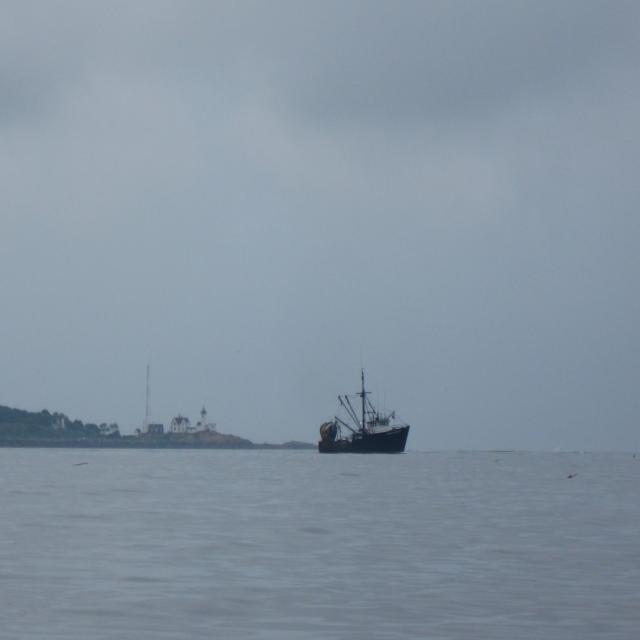fishing boat: (311, 375, 411, 453)
